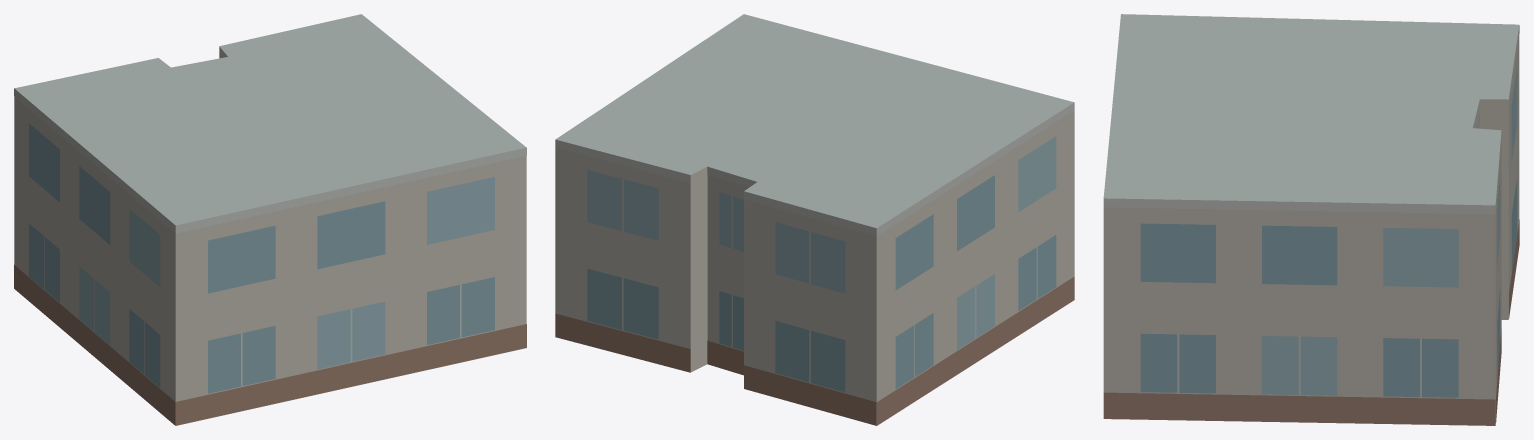
The model's file is survey-upis-32685460.glb.
The picture shows the model from 3 angles, left to right: view 1: azimuth 30°, elevation 25°; view 2: azimuth 150°, elevation 25°; view 3: azimuth 270°, elevation 25°; orthographic projection. The views are drawn at different scales.
Parts seen in each view (by area): view 1: survey-upis-32685460.tmp; view 2: survey-upis-32685460.tmp; view 3: survey-upis-32685460.tmp.
Boxes of the visible parts, box(x1,y1,x2,y2) form: survey-upis-32685460.tmp: box(14, 14, 526, 425); survey-upis-32685460.tmp: box(555, 14, 1074, 425); survey-upis-32685460.tmp: box(1103, 14, 1519, 425).
Bounding box in the file's own units: 11.36 × 6.1 × 10.44.
